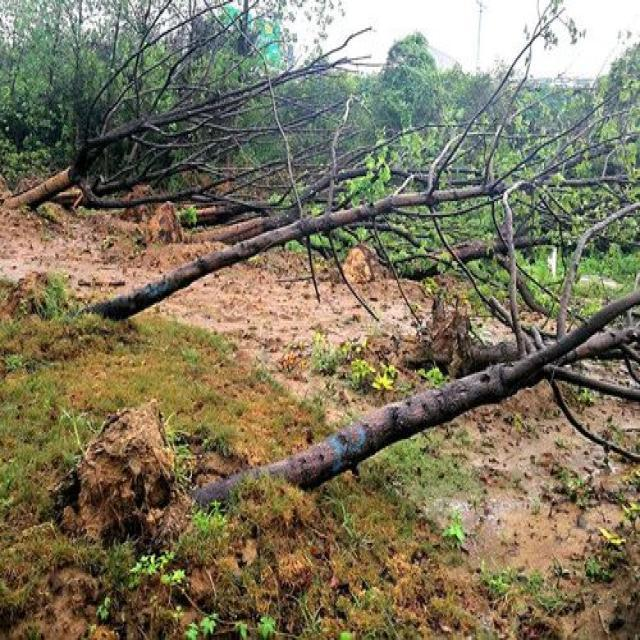fallen_object: (43, 294, 640, 553), (74, 112, 640, 332), (0, 1, 375, 222)
